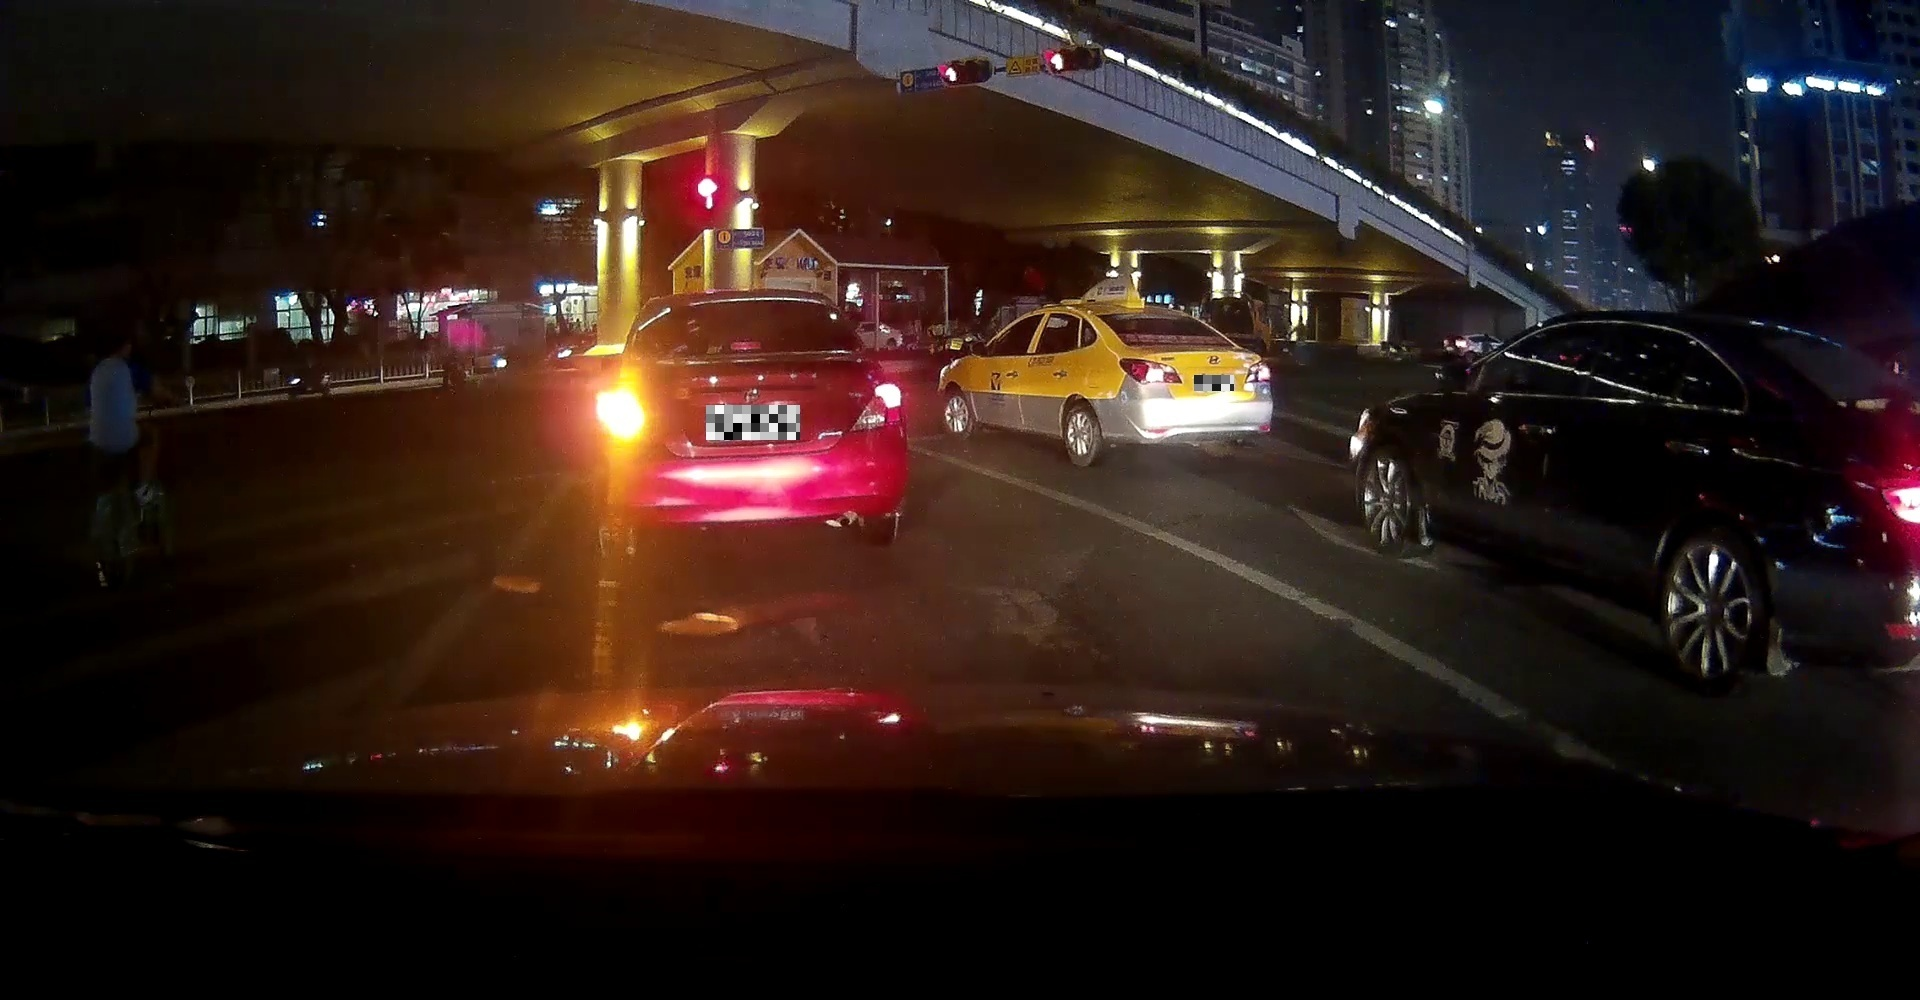L_light: (603, 386, 655, 439), (1117, 358, 1182, 386)
R_light: (847, 383, 903, 433), (1244, 359, 1271, 383)
T_light: (728, 340, 764, 352), (1178, 339, 1203, 344)
night-left: (598, 287, 909, 558)
night-no: (1090, 301, 1272, 468)
plate_1: (706, 405, 800, 440)
plate_2: (1194, 376, 1234, 391)
